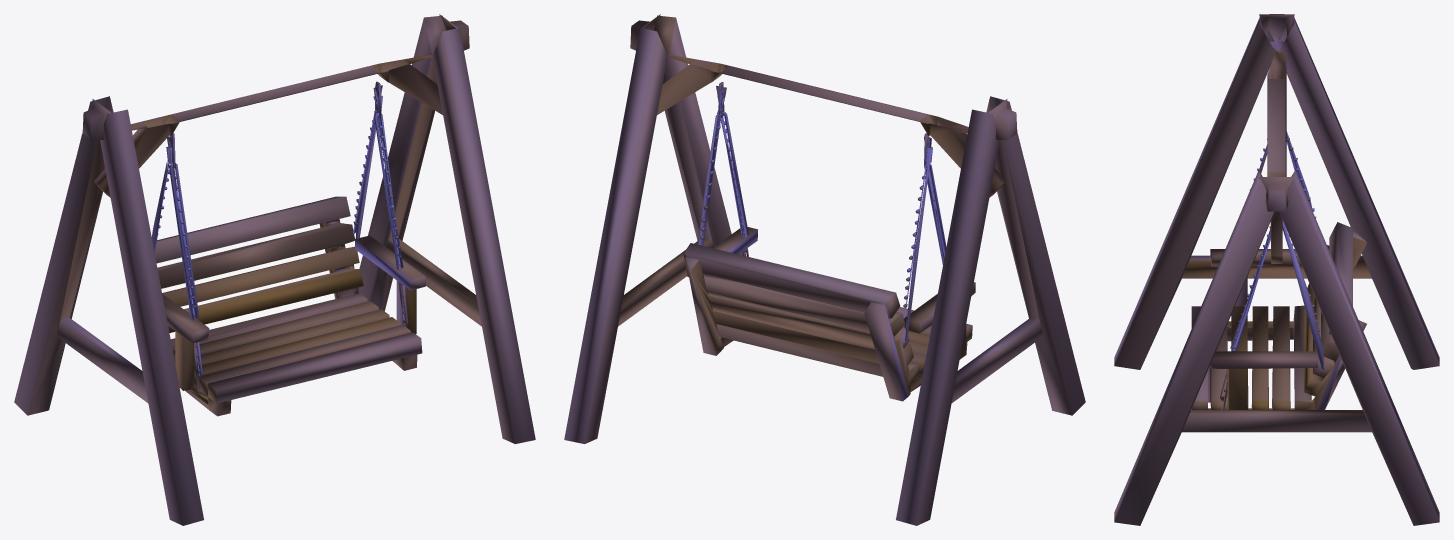
Rendered from model.progressive.glb.
3 views of the same model, side by side, from view 1: azimuth 30°, elevation 25°; view 2: azimuth 150°, elevation 25°; view 3: azimuth 270°, elevation 25° (orthographic). The views are drawn at different scales.
Parts seen in each view (by area): view 1: material; view 2: material; view 3: material.
Boxes of the visible parts, bbox=[...] form: material: bbox=[14, 14, 535, 525]; material: bbox=[564, 14, 1085, 525]; material: bbox=[1114, 14, 1439, 525].
Size of the model in its own units: 1.9 by 1.74 by 1.47.
Materials: 1 (1 with a texture image).
